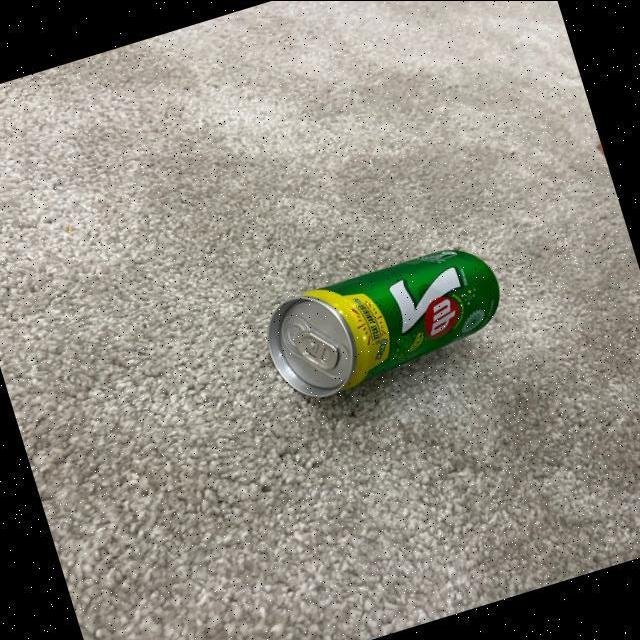can: (251, 232, 518, 410)
